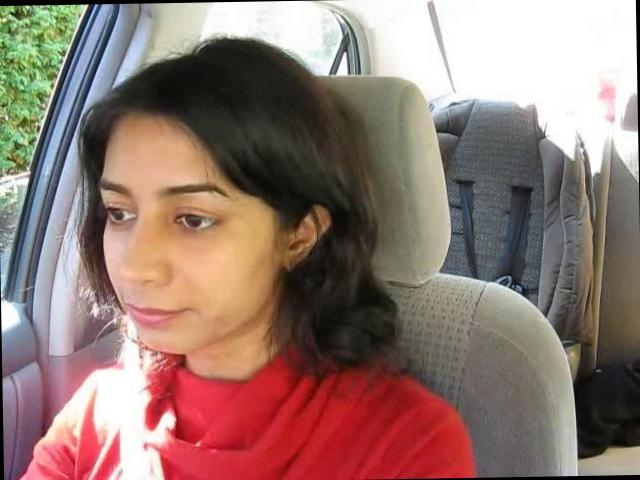eye_open: (166, 202, 226, 239), (104, 200, 136, 228)
face: (94, 151, 282, 358), (605, 0, 640, 323)
